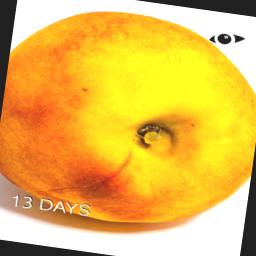Peach Unripe: (0, 0, 256, 245)
